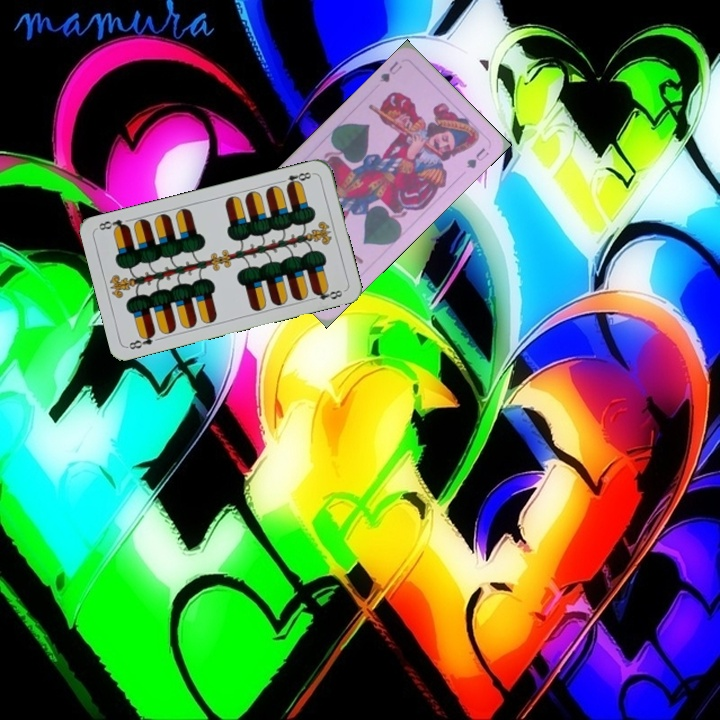E8: (276, 168, 316, 190), (125, 328, 158, 352)
GU: (375, 57, 404, 85)
